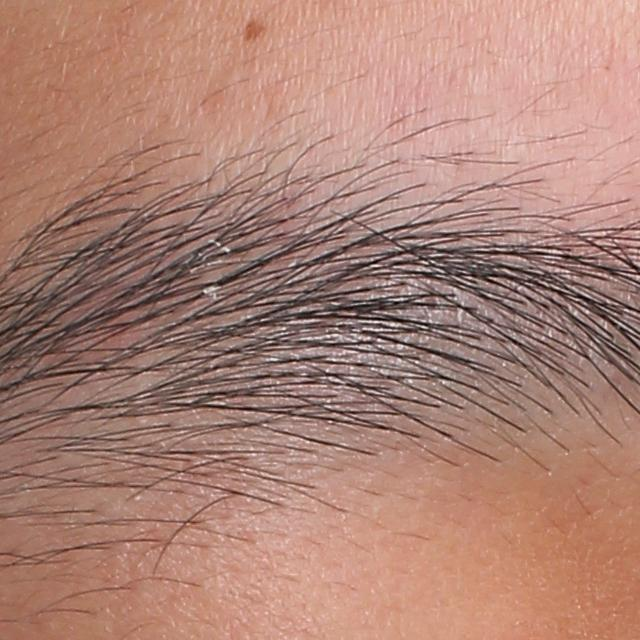nevus: (242, 17, 268, 43)
